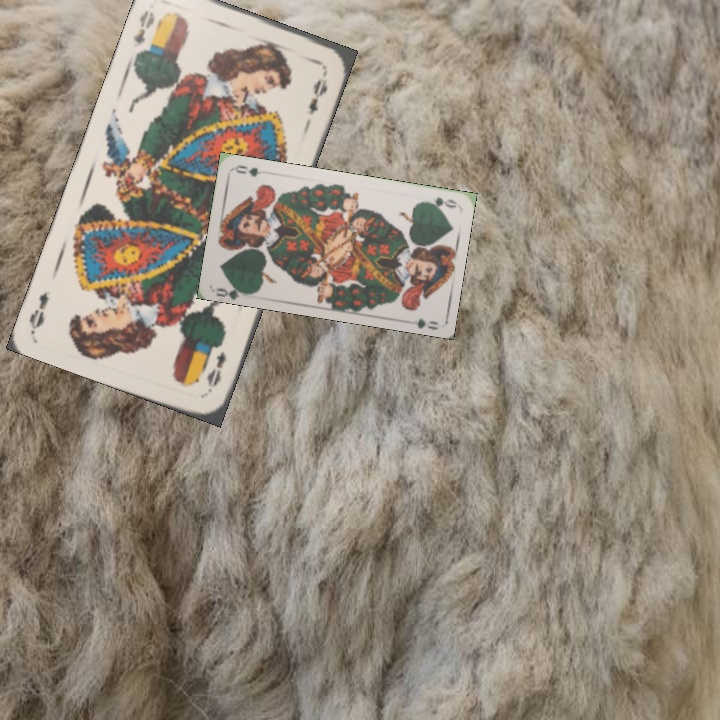EO: (129, 5, 158, 51), (202, 347, 229, 389)
GO: (213, 279, 253, 300), (418, 193, 459, 211)
